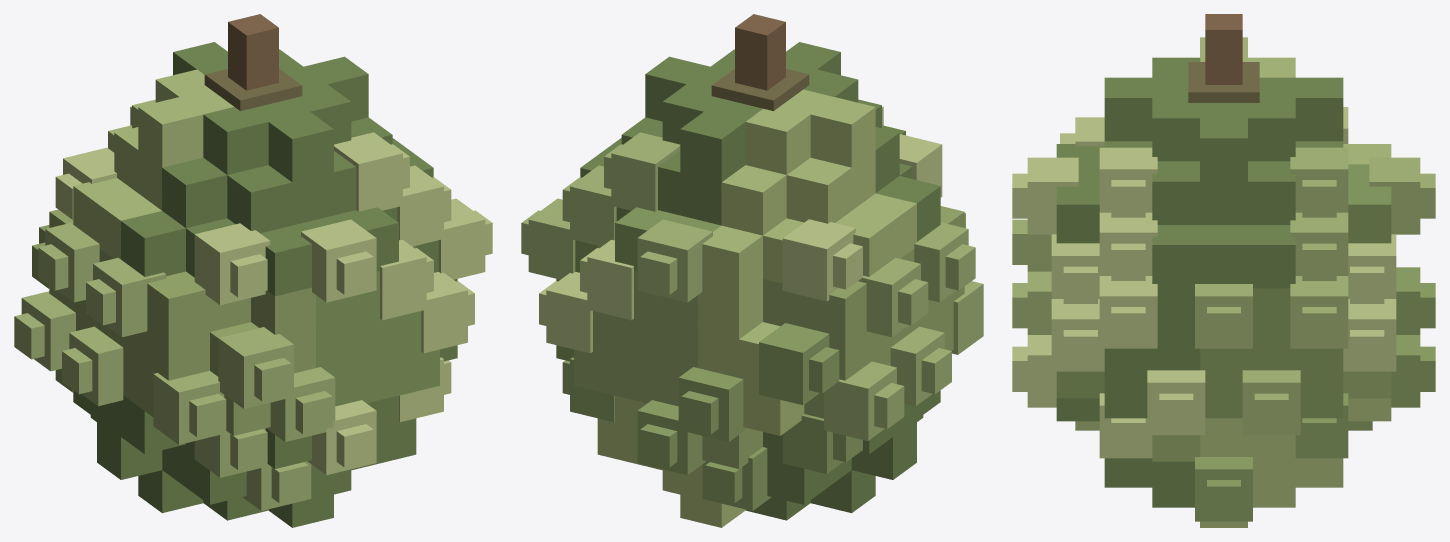
Rendered from DU-06_musang_king.glb.
3 views of the same model, side by side, from view 1: azimuth 30°, elevation 25°; view 2: azimuth 150°, elevation 25°; view 3: azimuth 270°, elevation 25° (orthographic).
Visible parts, largest first — view 1: Musang King / D197 · original workbench cubes; view 2: Musang King / D197 · original workbench cubes; view 3: Musang King / D197 · original workbench cubes.
Part boxes in pixels (x1,y1,x2,y2): Musang King / D197 · original workbench cubes: (14,14,492,527); Musang King / D197 · original workbench cubes: (521,14,983,527); Musang King / D197 · original workbench cubes: (1012,14,1435,527).
Size of the model in its own units: 0.1242 by 0.1474 by 0.1242.
